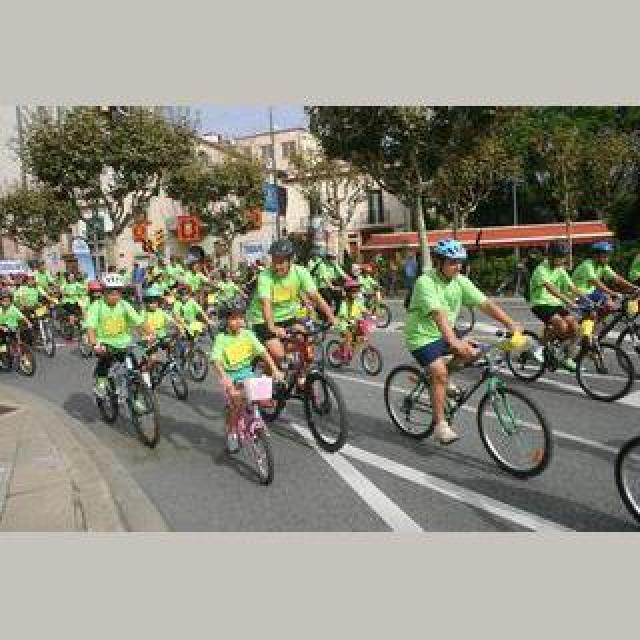Bus-Bike: (0, 258, 34, 284)
MC-Bike: (400, 238, 518, 446), (250, 240, 338, 412), (210, 302, 278, 468), (86, 280, 148, 416), (568, 242, 638, 350), (528, 250, 586, 372), (168, 282, 210, 348), (0, 284, 32, 370), (402, 250, 418, 306)
Person: (384, 334, 554, 478), (504, 292, 640, 404), (264, 318, 350, 456), (90, 340, 160, 450), (220, 370, 278, 486), (326, 316, 384, 376), (144, 336, 190, 402), (0, 322, 38, 378)
